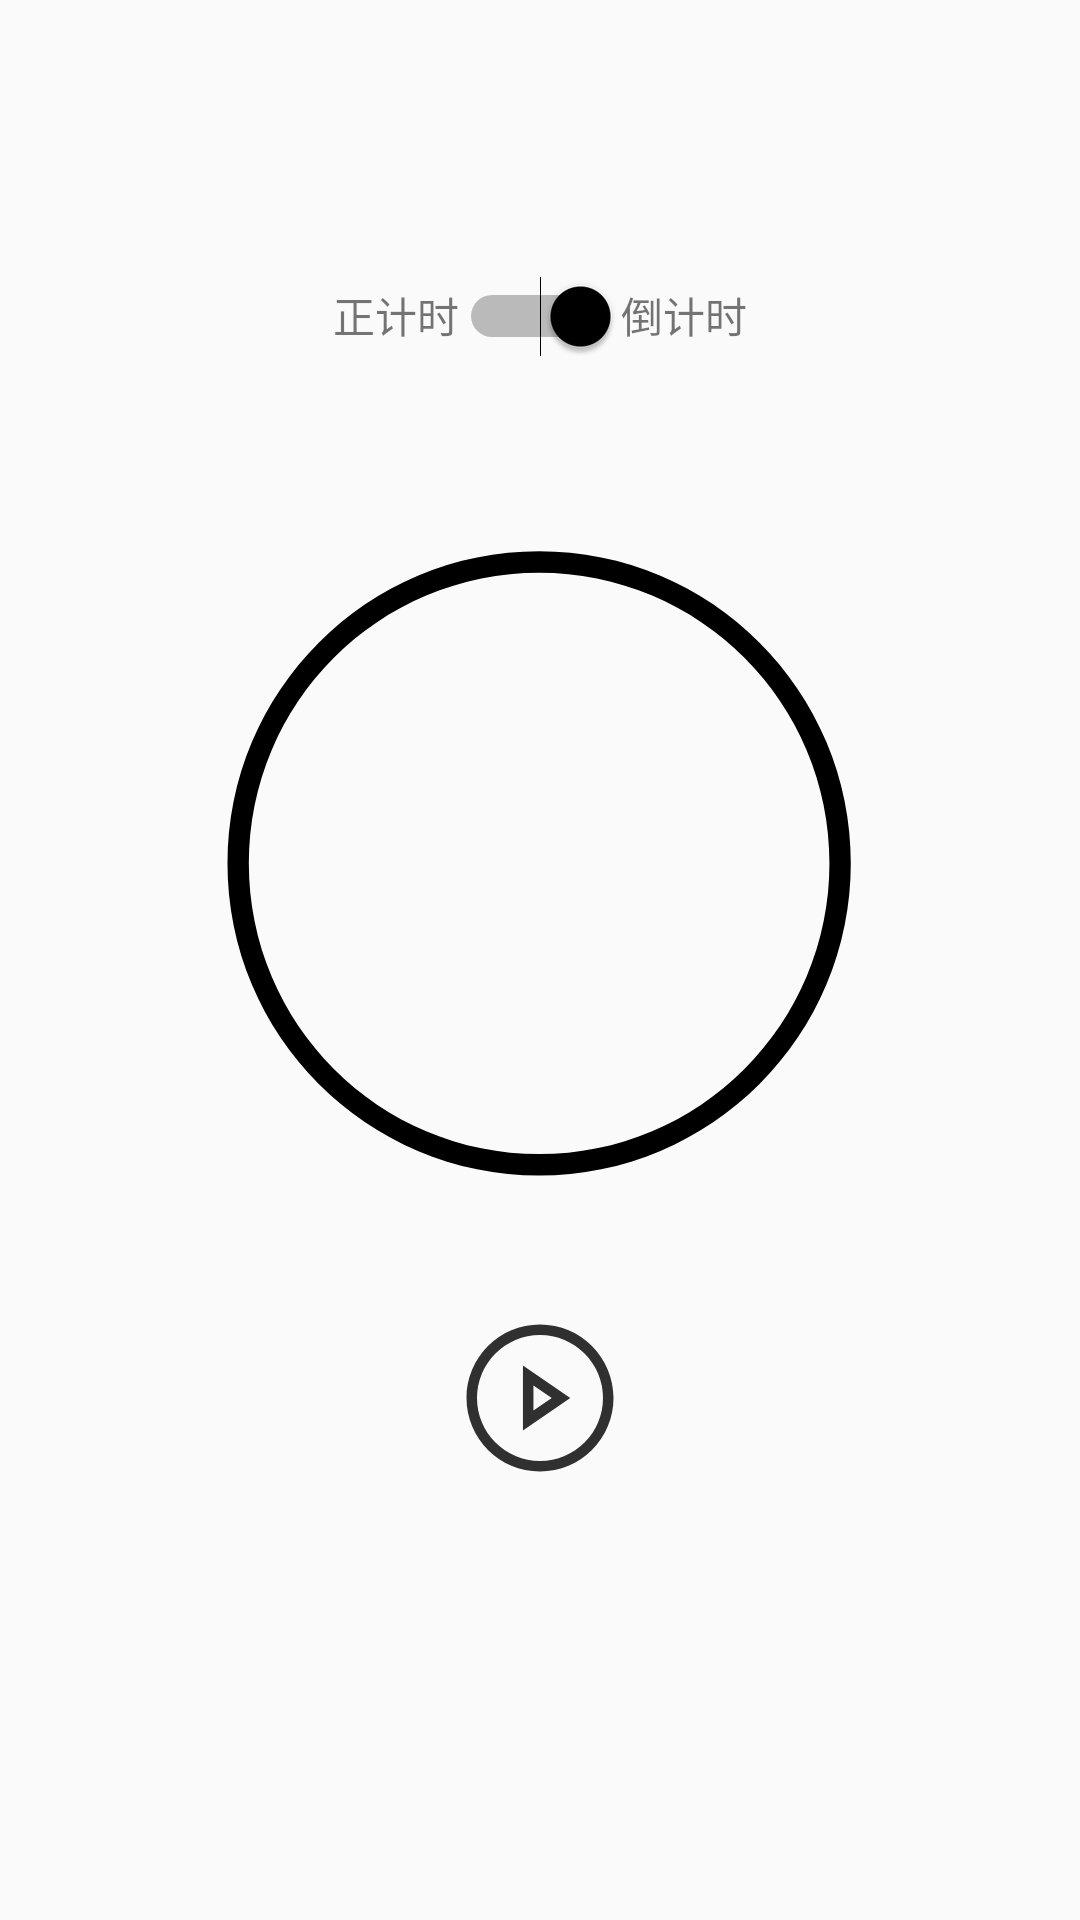

Where icons sit on this 1080px×1920px app screen, as (x1, y1, x2, y2):
start: (466, 1324, 614, 1472)
